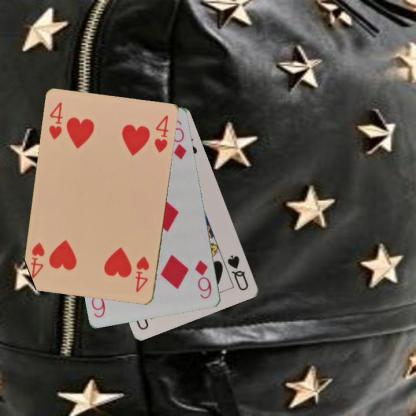4h: (46, 100, 64, 141), (133, 254, 151, 294)
6d: (192, 258, 214, 300)
Qs: (225, 252, 250, 292)
